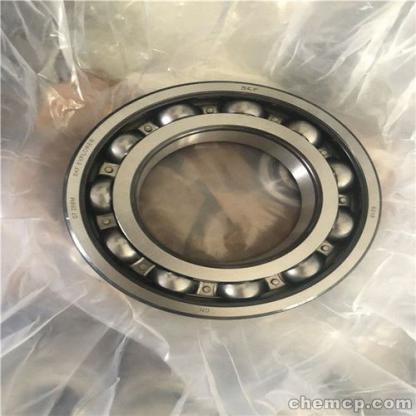FOD: (58, 75, 388, 324)
